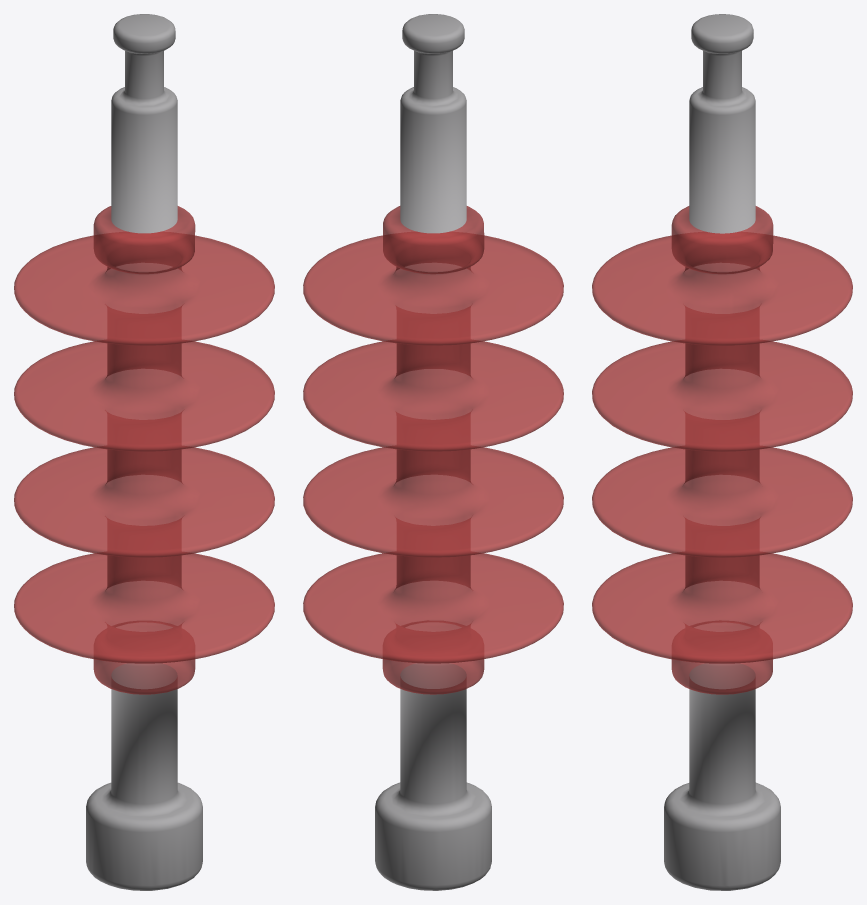
Rendered from 复合拉棒绝缘子-3.obj.
3 renders of one model, left to right at view 1: azimuth 30°, elevation 25°; view 2: azimuth 150°, elevation 25°; view 3: azimuth 270°, elevation 25°, orthographic.
Visible parts, largest first — view 1: 复合拉棒绝缘子-3; view 2: 复合拉棒绝缘子-3; view 3: 复合拉棒绝缘子-3.
Part boxes in pixels (x1,y1,x2,y2): 复合拉棒绝缘子-3: (14, 14, 274, 890); 复合拉棒绝缘子-3: (303, 14, 563, 890); 复合拉棒绝缘子-3: (592, 14, 852, 890).
Size of the model in its own units: 13.39 by 47.8 by 13.38.
